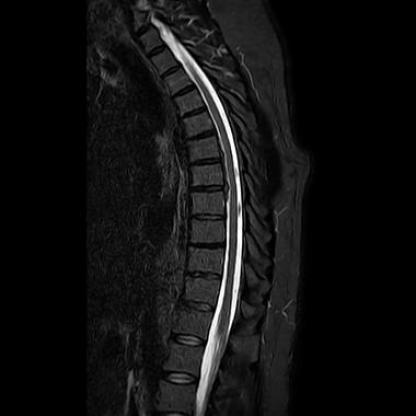Disc Protrusionrotation: (172, 89, 204, 118), (186, 129, 221, 144)
